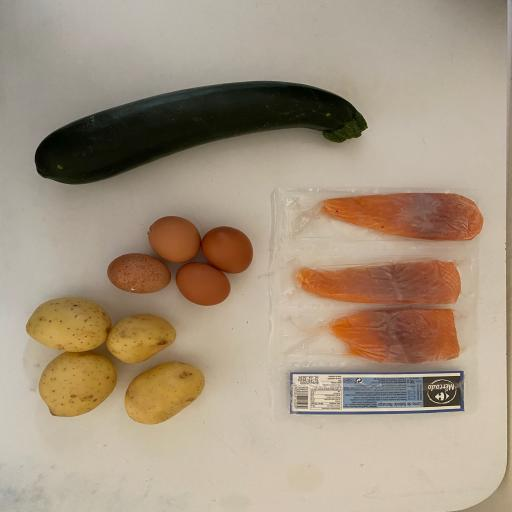courgette: (29, 75, 370, 187)
egg: (104, 250, 174, 296), (146, 212, 206, 265), (199, 223, 259, 275), (172, 262, 233, 308)
potato: (121, 358, 209, 430), (37, 349, 119, 420), (22, 293, 116, 354), (103, 312, 180, 366)
salmon: (316, 191, 486, 245), (291, 258, 466, 308), (325, 304, 465, 366)
